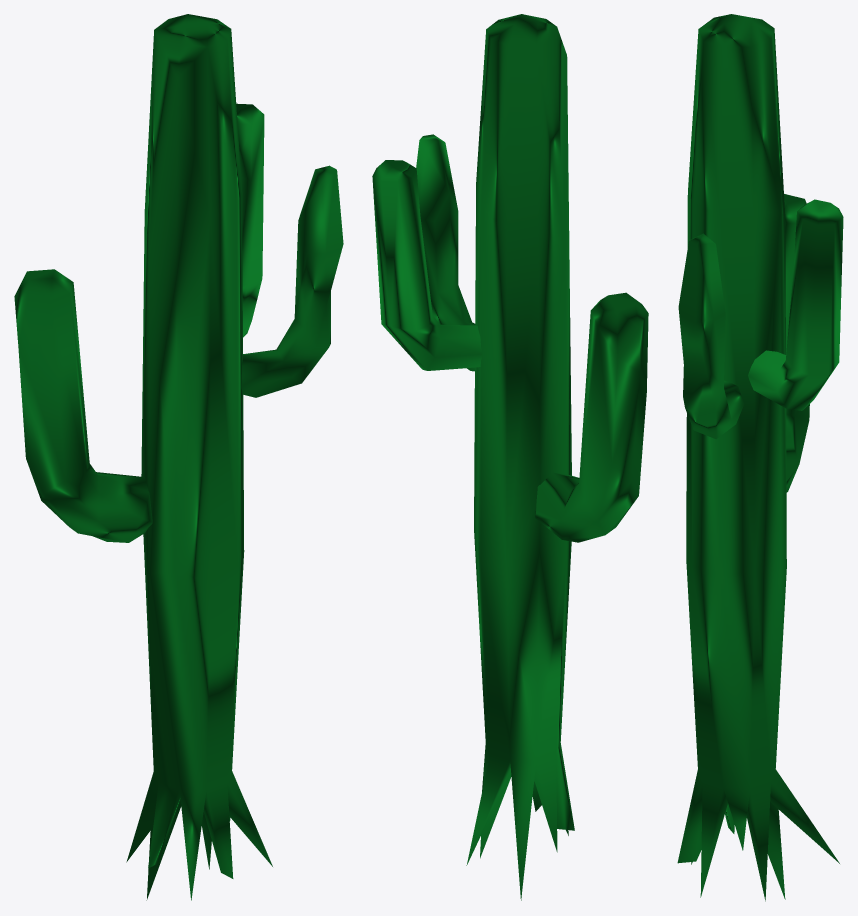
Rendered from SeguaroCactusLarge3_LOD1.obj.
3 renders of one model, left to right at view 1: azimuth 30°, elevation 25°; view 2: azimuth 150°, elevation 25°; view 3: azimuth 270°, elevation 25°, orthographic. The views are drawn at different scales.
Parts seen in each view (by area): view 1: SeguaroCactusLarge3_LOD1; view 2: SeguaroCactusLarge3_LOD1; view 3: SeguaroCactusLarge3_LOD1.
Boxes of the visible parts, <box> form: SeguaroCactusLarge3_LOD1: <box>14,14,343,900</box>; SeguaroCactusLarge3_LOD1: <box>372,14,648,900</box>; SeguaroCactusLarge3_LOD1: <box>677,14,843,901</box>.
Size of the model in its own units: 204 by 623 by 105.
